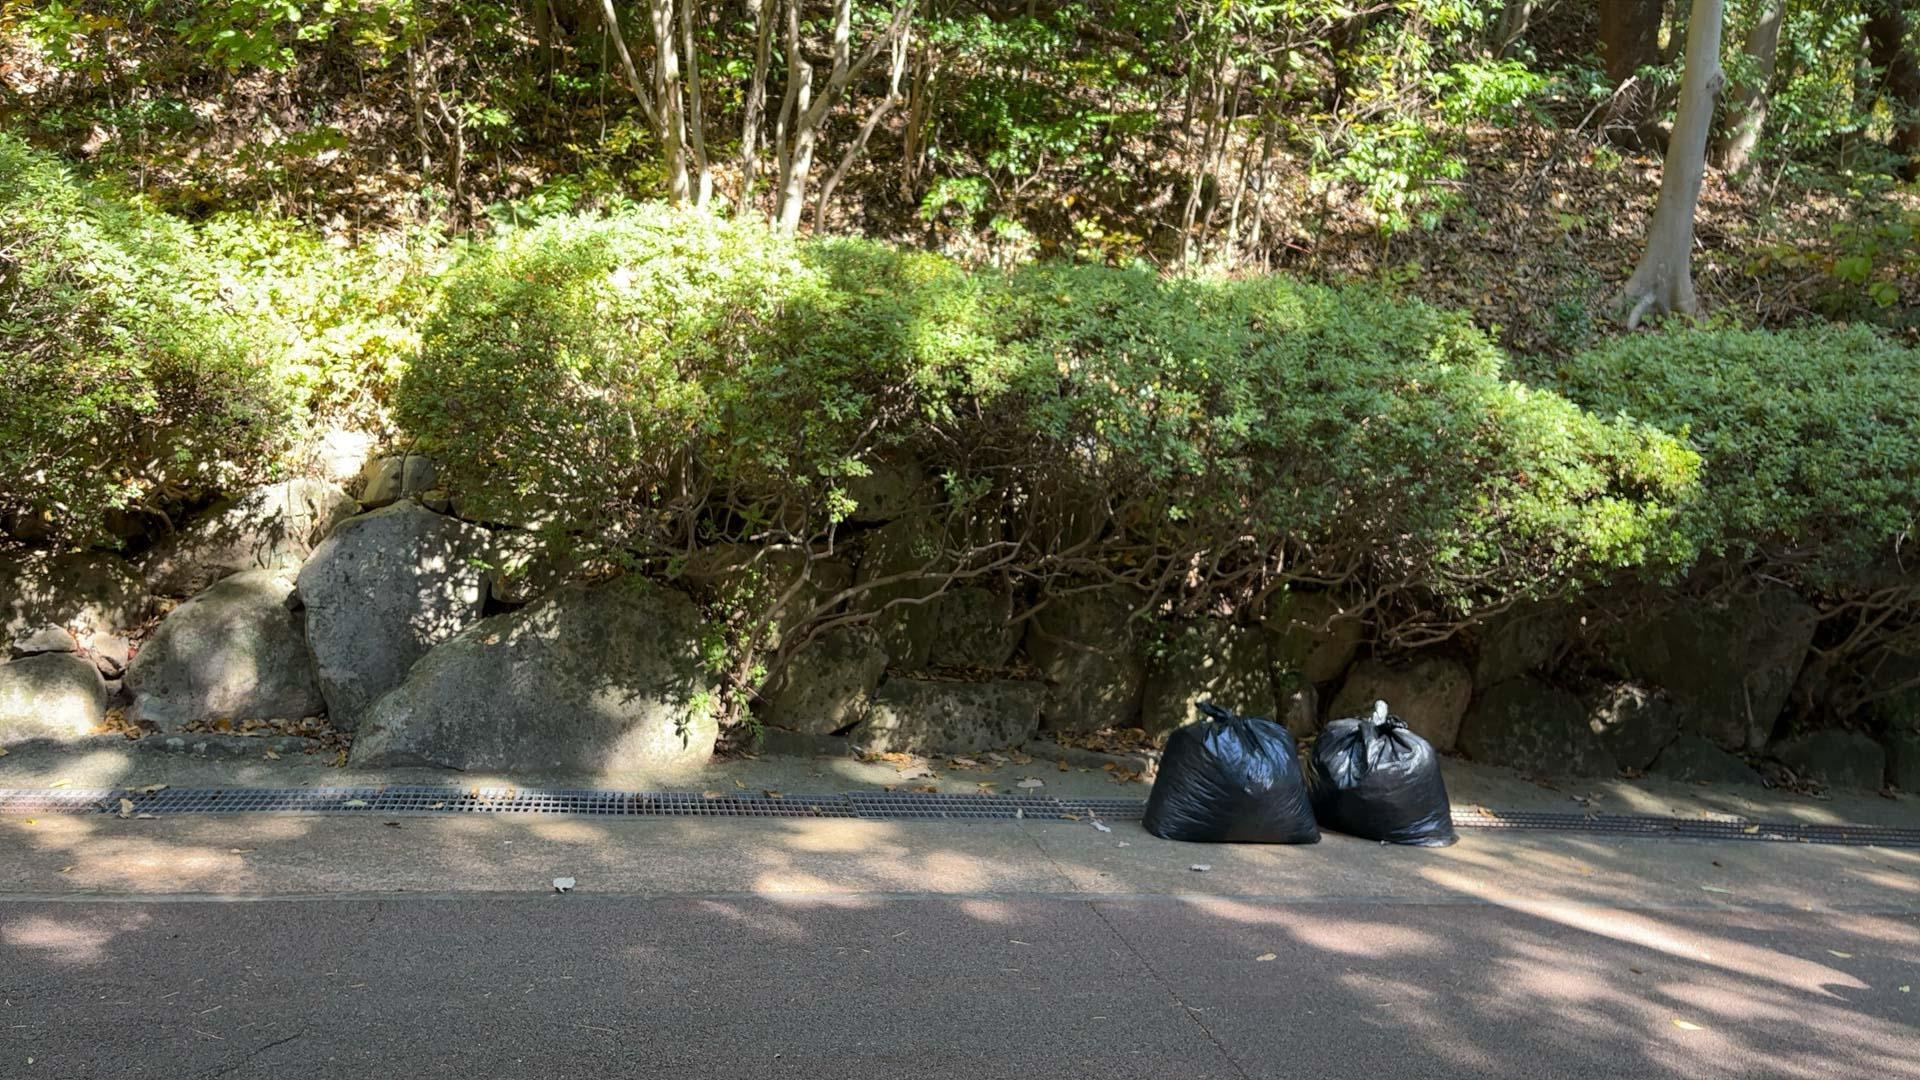black_bag: (1138, 695, 1331, 852), (1307, 699, 1462, 855)
